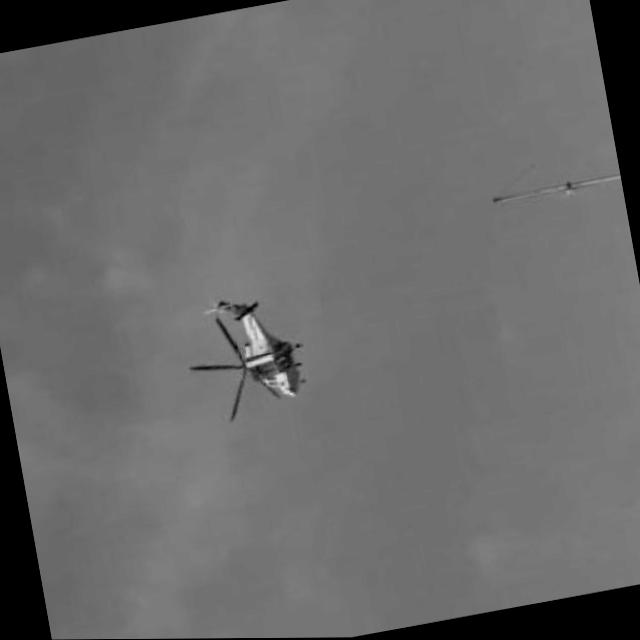helikopter: (176, 285, 314, 427)
